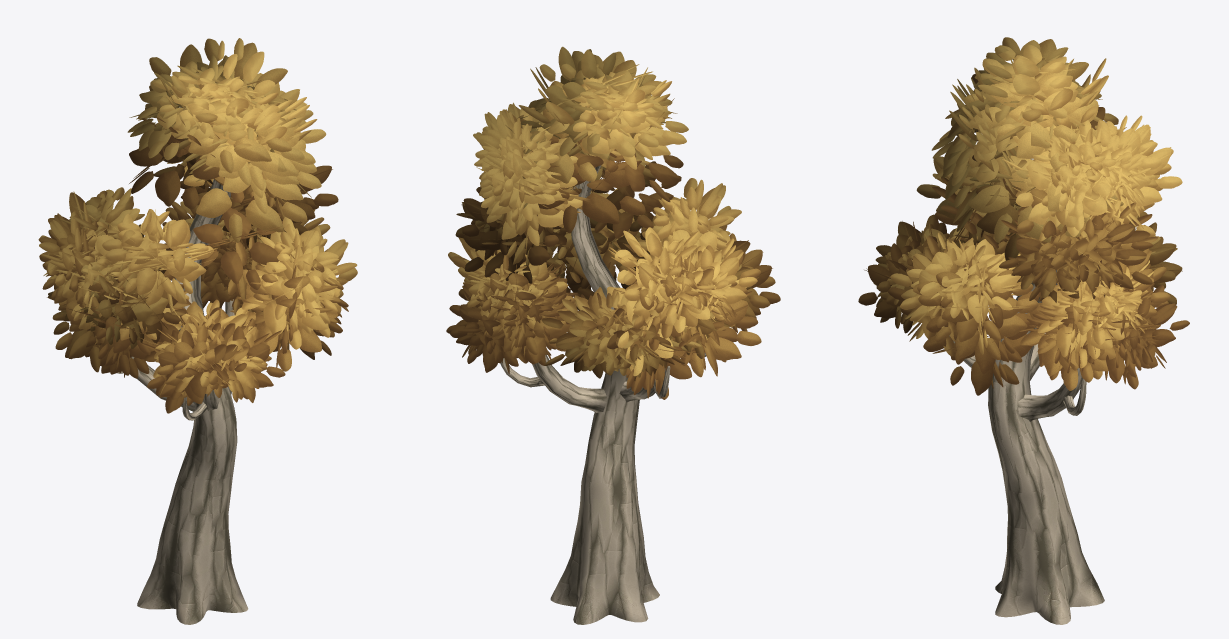
Rendered from tree_beech_autumn.glb.
The picture shows the model from 3 angles, left to right: view 1: azimuth 30°, elevation 25°; view 2: azimuth 150°, elevation 25°; view 3: azimuth 270°, elevation 25°; orthographic projection. The views are drawn at different scales.
Parts seen in each view (by area): view 1: Canopy, tree_beech_autumn; view 2: Canopy, tree_beech_autumn; view 3: Canopy, tree_beech_autumn.
Part boxes in pixels (bbox=[...]): Canopy: bbox=[38, 38, 357, 413]; tree_beech_autumn: bbox=[117, 106, 248, 624]; Canopy: bbox=[446, 46, 780, 399]; tree_beech_autumn: bbox=[500, 165, 706, 624]; Canopy: bbox=[858, 37, 1189, 395]; tree_beech_autumn: bbox=[949, 158, 1104, 624].
Bounding box in the file's own units: 1.47 × 2.3 × 1.39.
2 materials, 2 textured.
